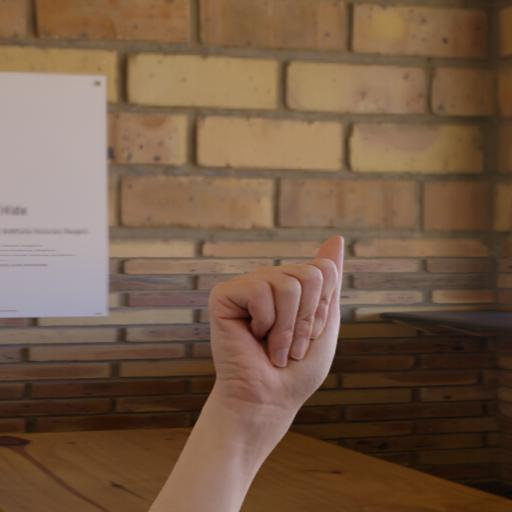A: (193, 224, 384, 426)
